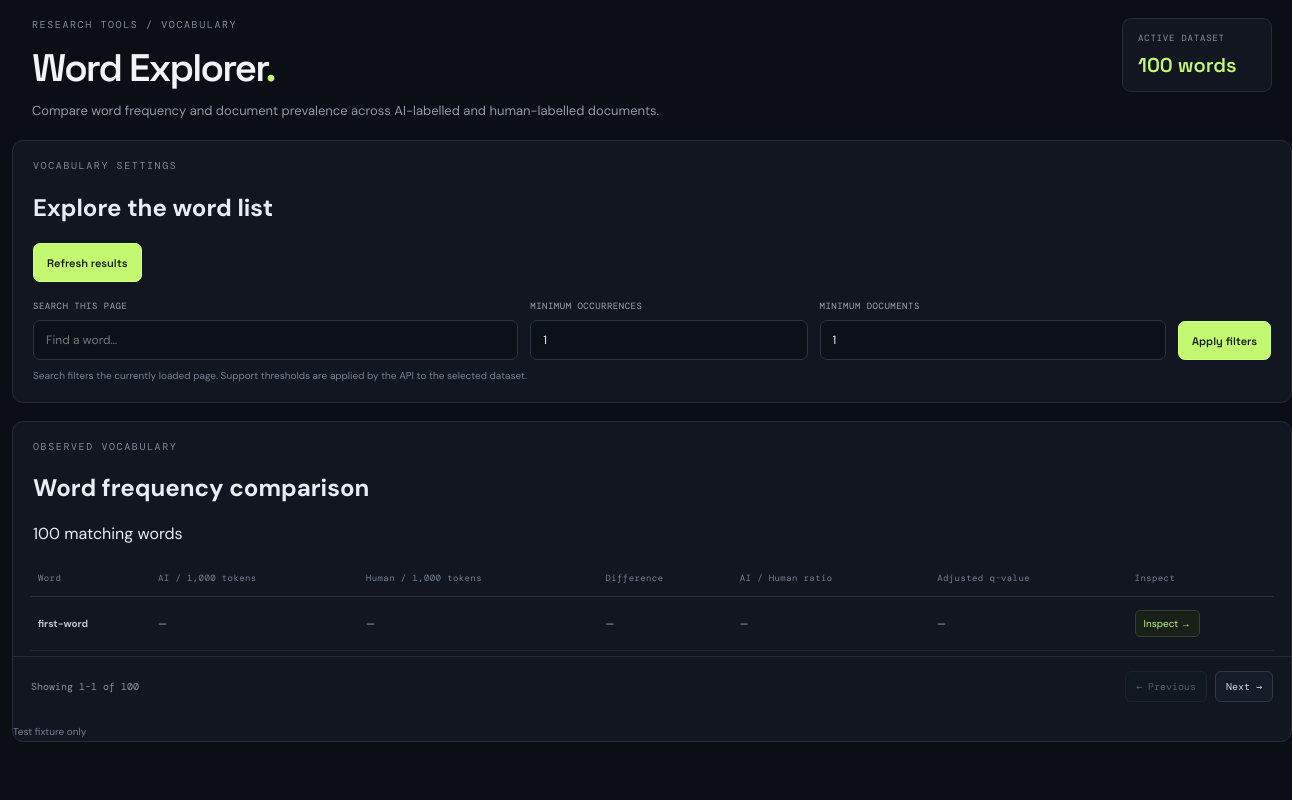
Test case: WordExplorer controls › applies support thresholds and resets the page offset
Replace the text in the number field labelled "MINIMUM OCCURRENCES" with "3" at (669, 340), box top-left (530, 320), bottom-right (808, 360)
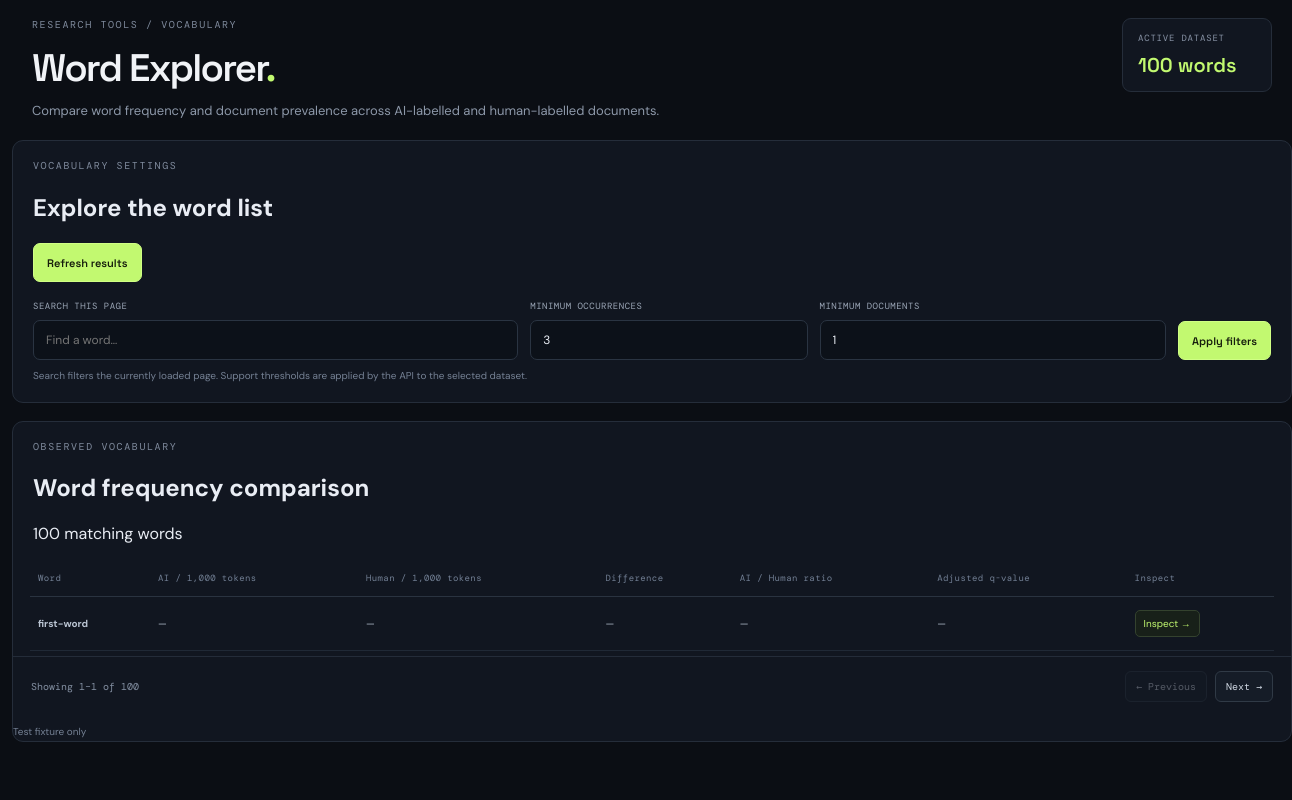
Replace the text in the number field labelled "MINIMUM DOCUMENTS" with "2" at (993, 340), box top-left (820, 320), bottom-right (1166, 360)
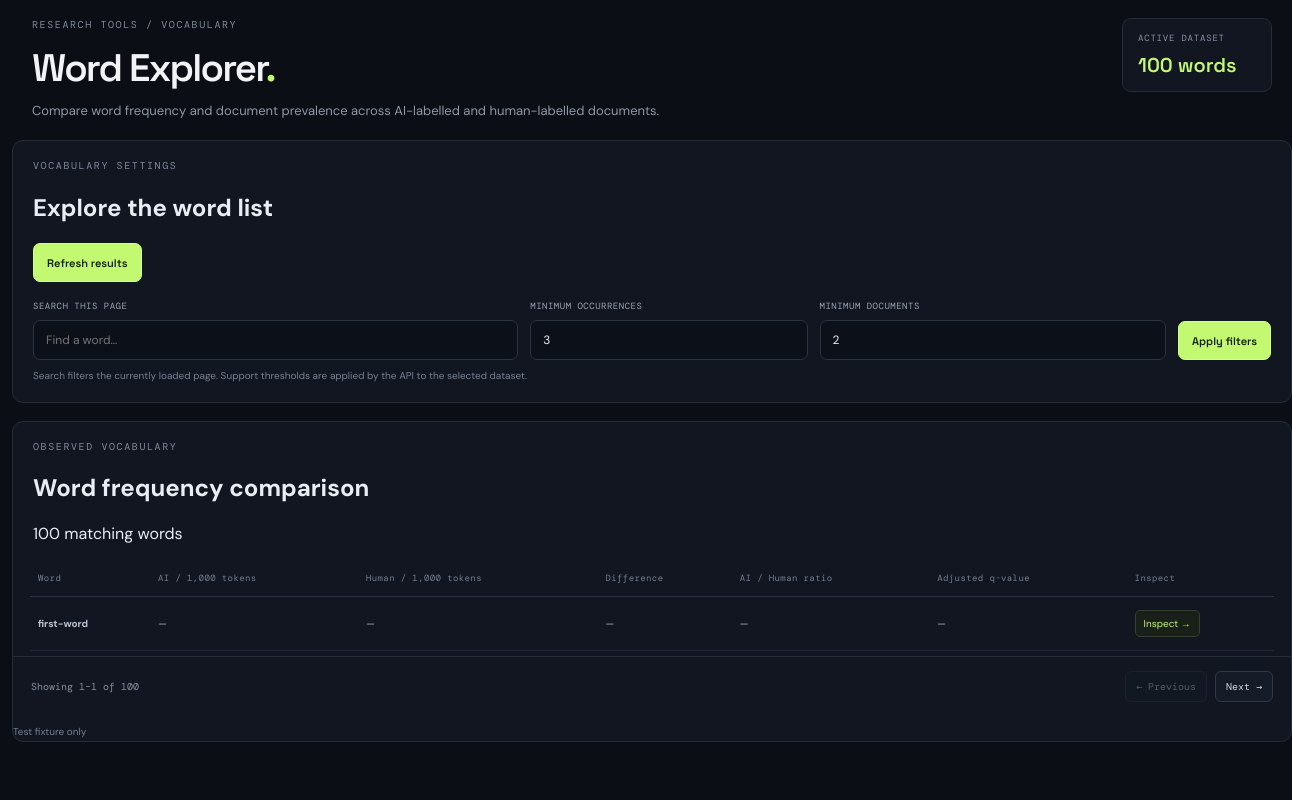
Click the button "Apply filters" at (1225, 341), box top-left (1178, 321), bottom-right (1271, 360)
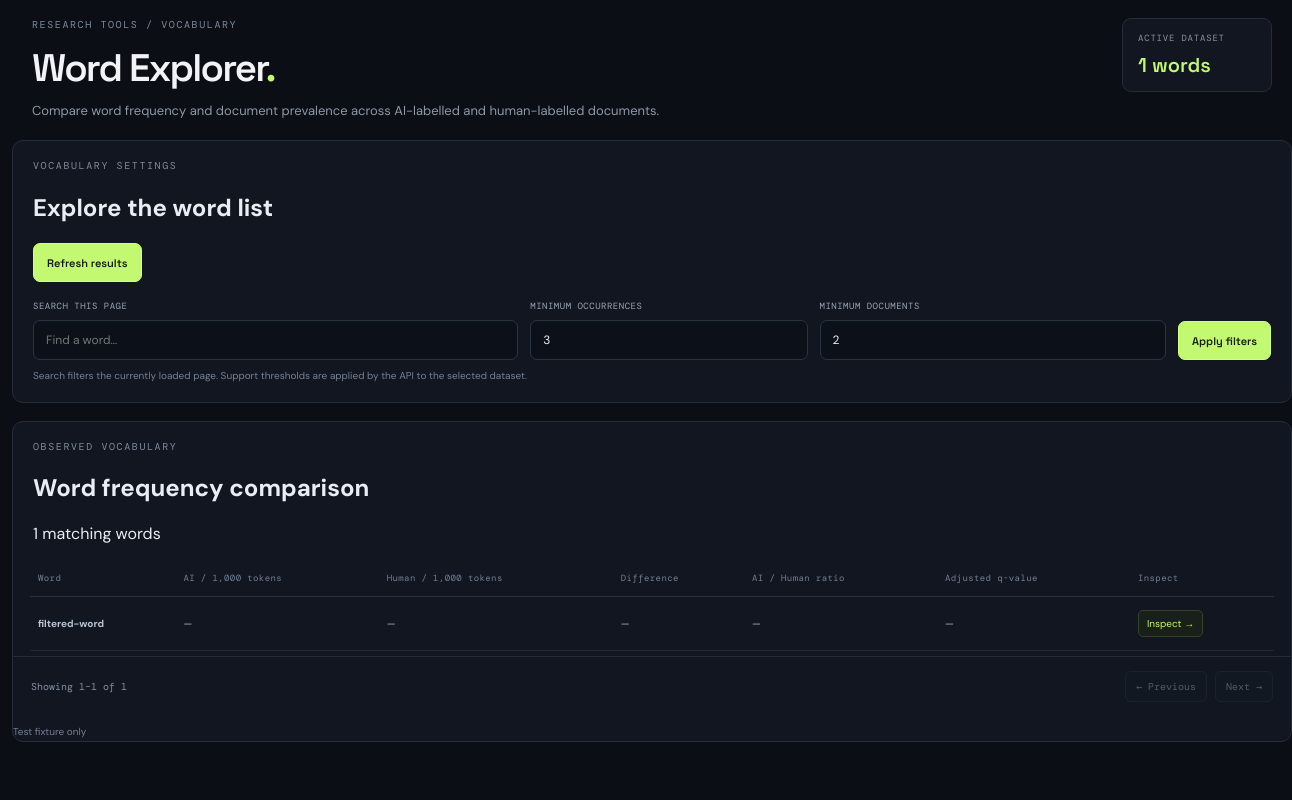
Result: the text "filtered-word" is shown at top-left (38, 617), bottom-right (104, 630)
